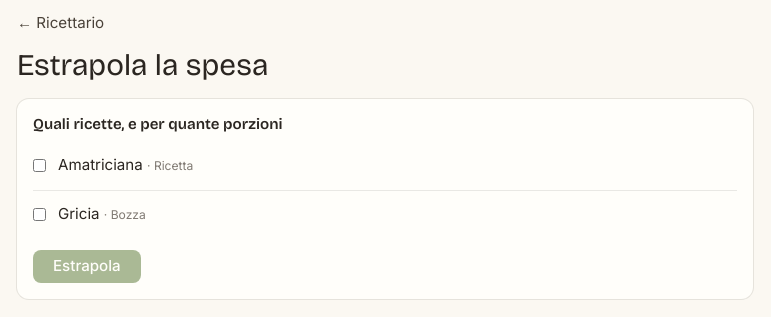
Estrapola la spesa › le porzioni partono da quelle della ricetta, e senza porzioni non si estrapola
Click the checkbox labelled "Amatriciana · Ricetta".
click(40, 166)  # box [33,159,46,172]
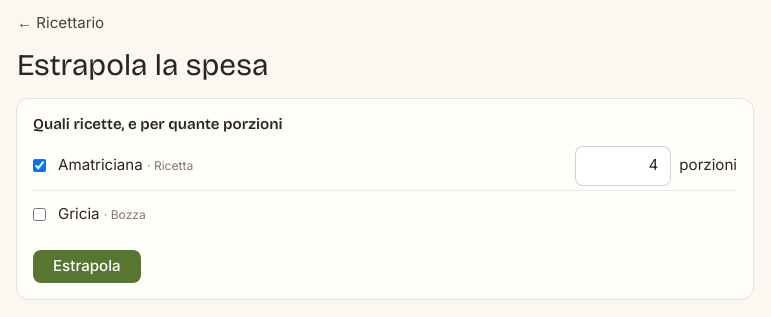
Check: the field named "Porzioni di Amatriciana" holds "4"
Clear the field named "Porzioni di Amatriciana" at (623, 166), box [575,146,671,186]
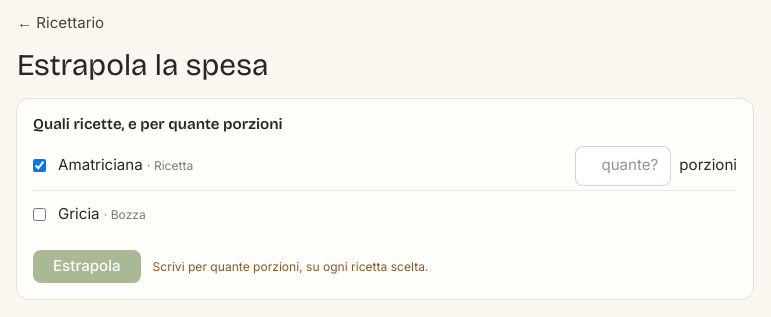
Check: the button "Estrapola" is disabled, box [33,250,141,282]
